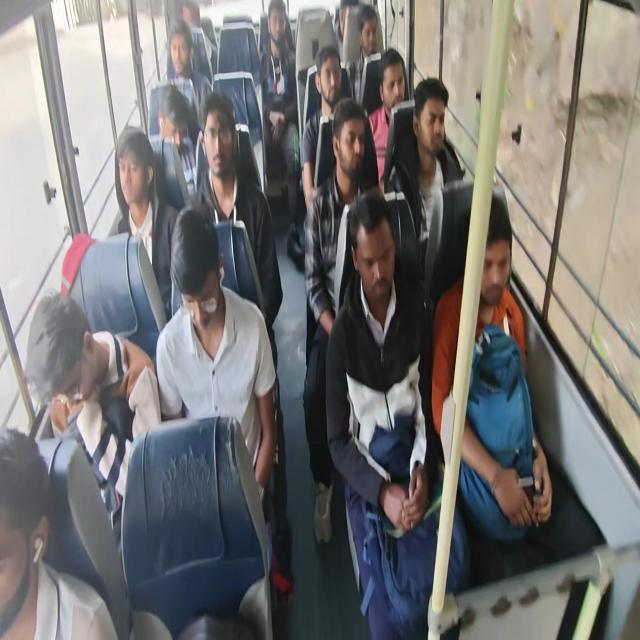person: (0, 442, 61, 622), (23, 320, 93, 410), (345, 204, 398, 298), (174, 230, 221, 330), (467, 221, 510, 308), (142, 80, 194, 134), (202, 109, 234, 182), (115, 137, 149, 199), (419, 98, 448, 156), (167, 30, 196, 84), (377, 62, 407, 112), (336, 121, 364, 174), (312, 60, 343, 104), (361, 22, 381, 54), (181, 2, 202, 30), (335, 3, 353, 34), (266, 8, 281, 35)
